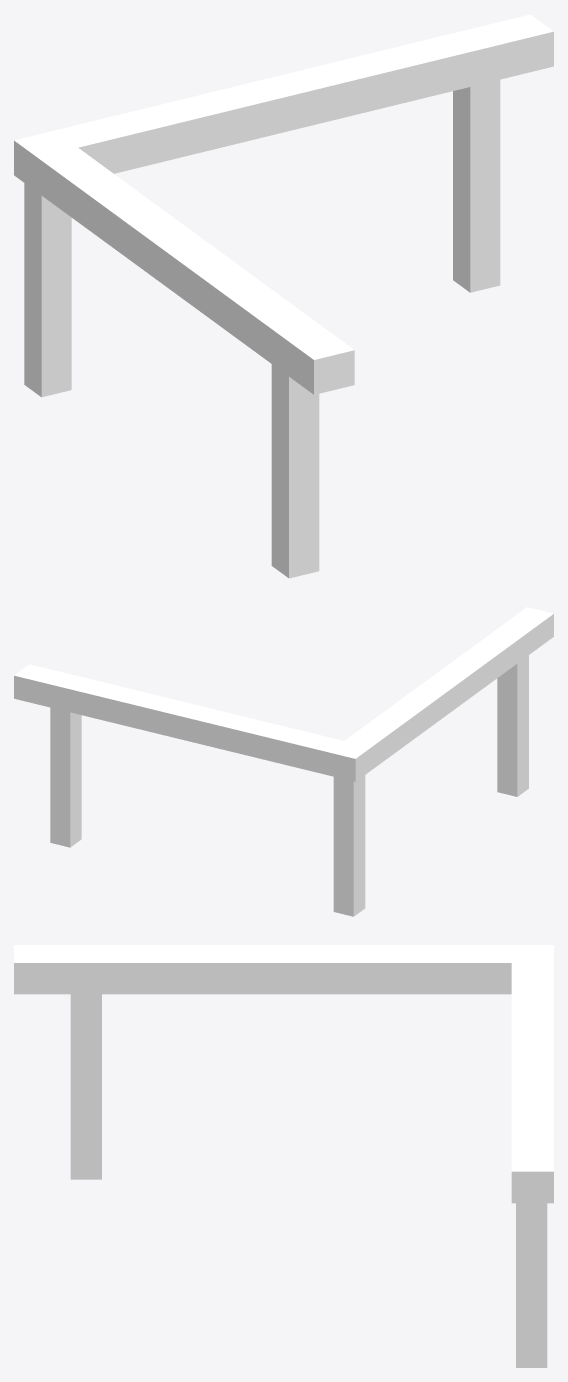
The model's file is rail.002.glb.
3 renders of one model, top to bottom at view 1: azimuth 30°, elevation 25°; view 2: azimuth 150°, elevation 25°; view 3: azimuth 270°, elevation 25°, orthographic. The views are drawn at different scales.
Visible parts, largest first — view 1: rail.002(Clone); view 2: rail.002(Clone); view 3: rail.002(Clone).
Part boxes in pixels (x1=…): rail.002(Clone): x1=14, y1=14, x2=553, y2=578; rail.002(Clone): x1=14, y1=607, x2=553, y2=916; rail.002(Clone): x1=14, y1=945, x2=553, y2=1367.
Size of the model in its own units: 1.45 by 0.6503 by 1.46.
Materials: 1 (1 with a texture image).
